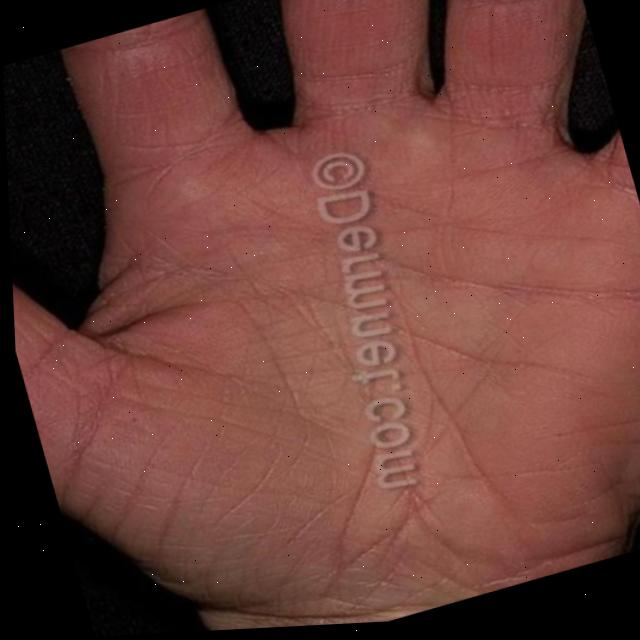Eczema: (383, 160, 640, 597)
